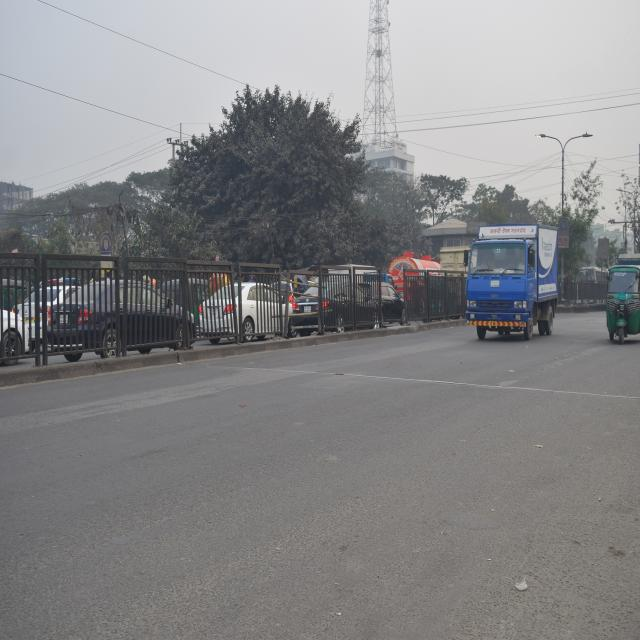car: (47, 272, 196, 358), (289, 256, 384, 346), (199, 296, 299, 362)
pickup-van: (468, 218, 579, 386)
truck: (390, 253, 460, 324)
